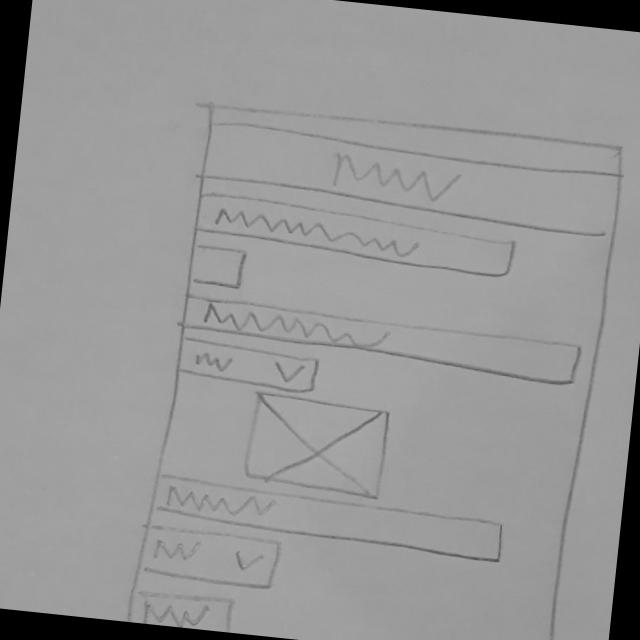container: (120, 95, 633, 640), (179, 239, 250, 292)
image: (235, 388, 399, 504)
input: (195, 116, 631, 237), (177, 291, 587, 386), (144, 471, 514, 565), (185, 190, 524, 281), (124, 585, 240, 634)
select: (136, 521, 286, 596), (166, 333, 327, 400)
